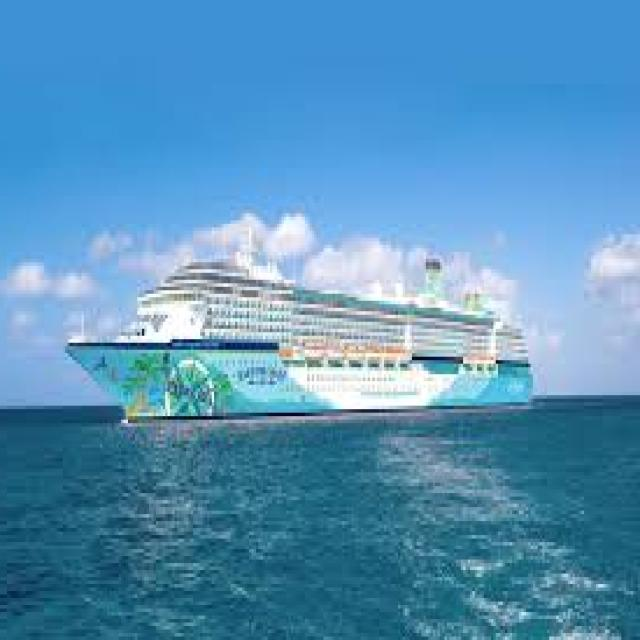PassengerShip: (66, 158, 592, 446)
